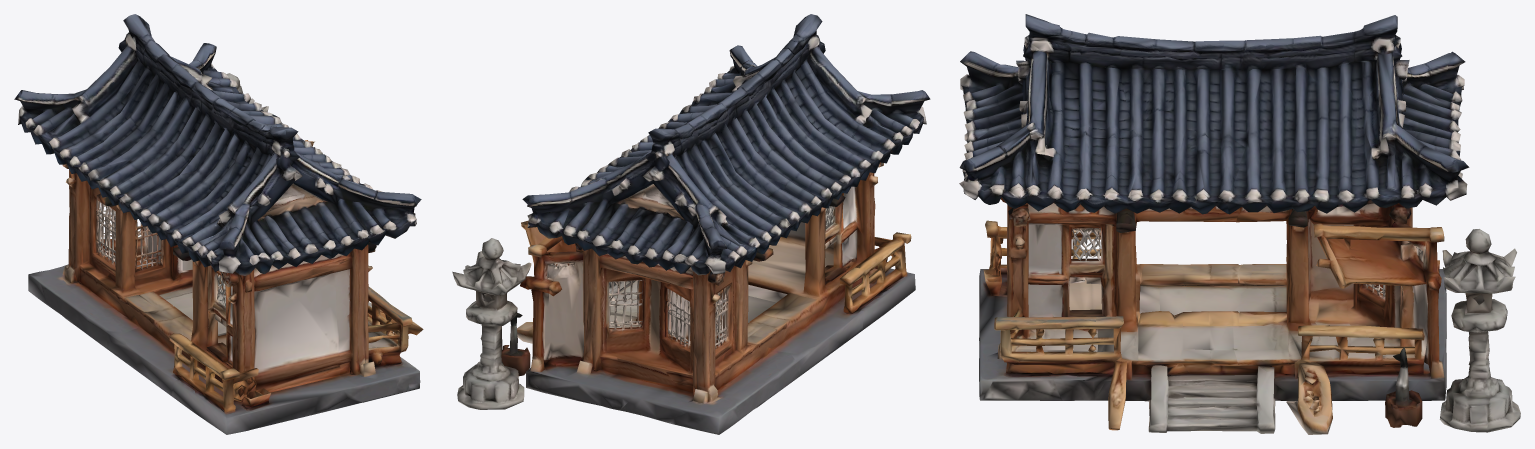
Rendered from tripo_h31_korean_hanok_pavilion_gate_kit.glb.
3 renders of one model, left to right at view 1: azimuth 30°, elevation 25°; view 2: azimuth 150°, elevation 25°; view 3: azimuth 270°, elevation 25°, orthographic. The views are drawn at different scales.
Parts seen in each view (by area): view 1: tripo_node_86e93201-17d2-4f6c-bf85-2a3e9e7e1023; view 2: tripo_node_86e93201-17d2-4f6c-bf85-2a3e9e7e1023; view 3: tripo_node_86e93201-17d2-4f6c-bf85-2a3e9e7e1023.
Part boxes in pixels (x1,y1,x2,y2): tripo_node_86e93201-17d2-4f6c-bf85-2a3e9e7e1023: [14, 14, 423, 434]; tripo_node_86e93201-17d2-4f6c-bf85-2a3e9e7e1023: [452, 14, 930, 434]; tripo_node_86e93201-17d2-4f6c-bf85-2a3e9e7e1023: [959, 14, 1520, 434].
Bounding box in the file's own units: 0.6355 × 0.6249 × 0.9786.
1 material, 1 textured.
